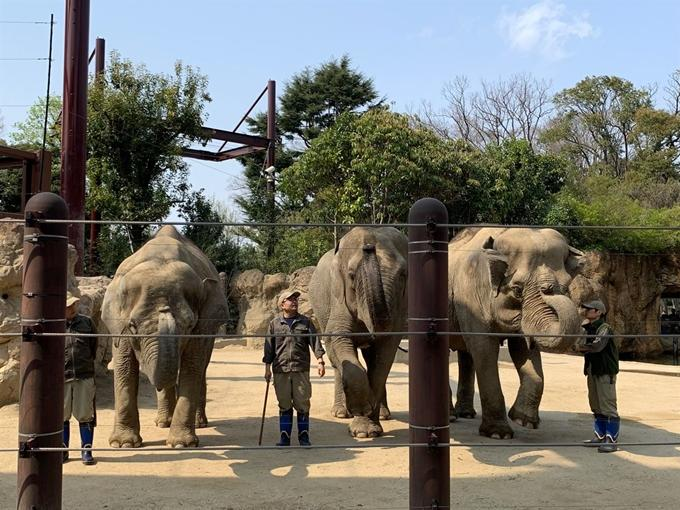elephant: (446, 224, 586, 439), (99, 223, 230, 449), (307, 224, 409, 438)
